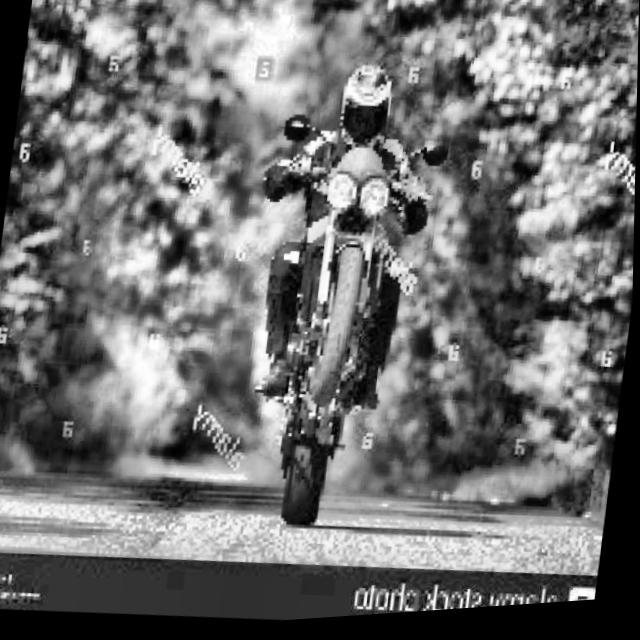motorcycle: (218, 98, 461, 543)
